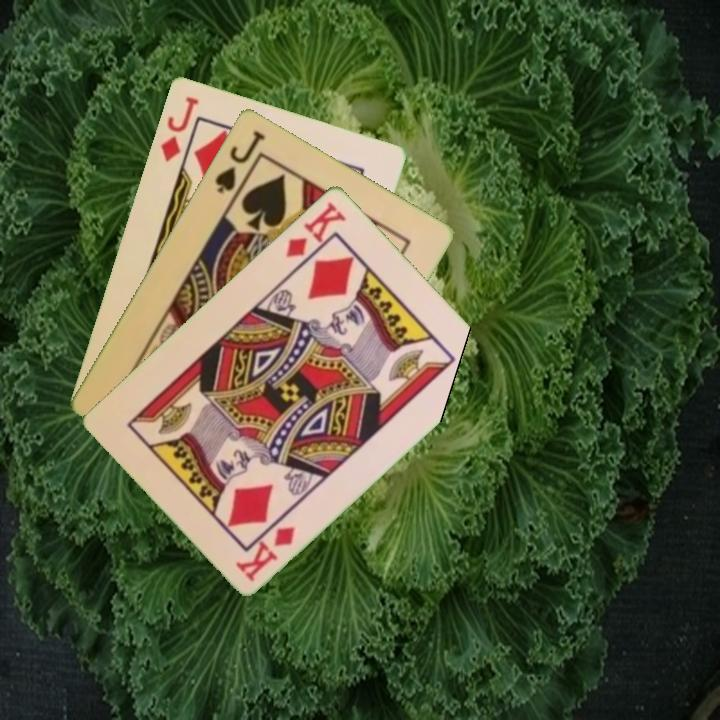Jd: (157, 92, 201, 164)
Js: (211, 126, 268, 196)
Kd: (282, 198, 349, 272), (232, 522, 299, 584)
